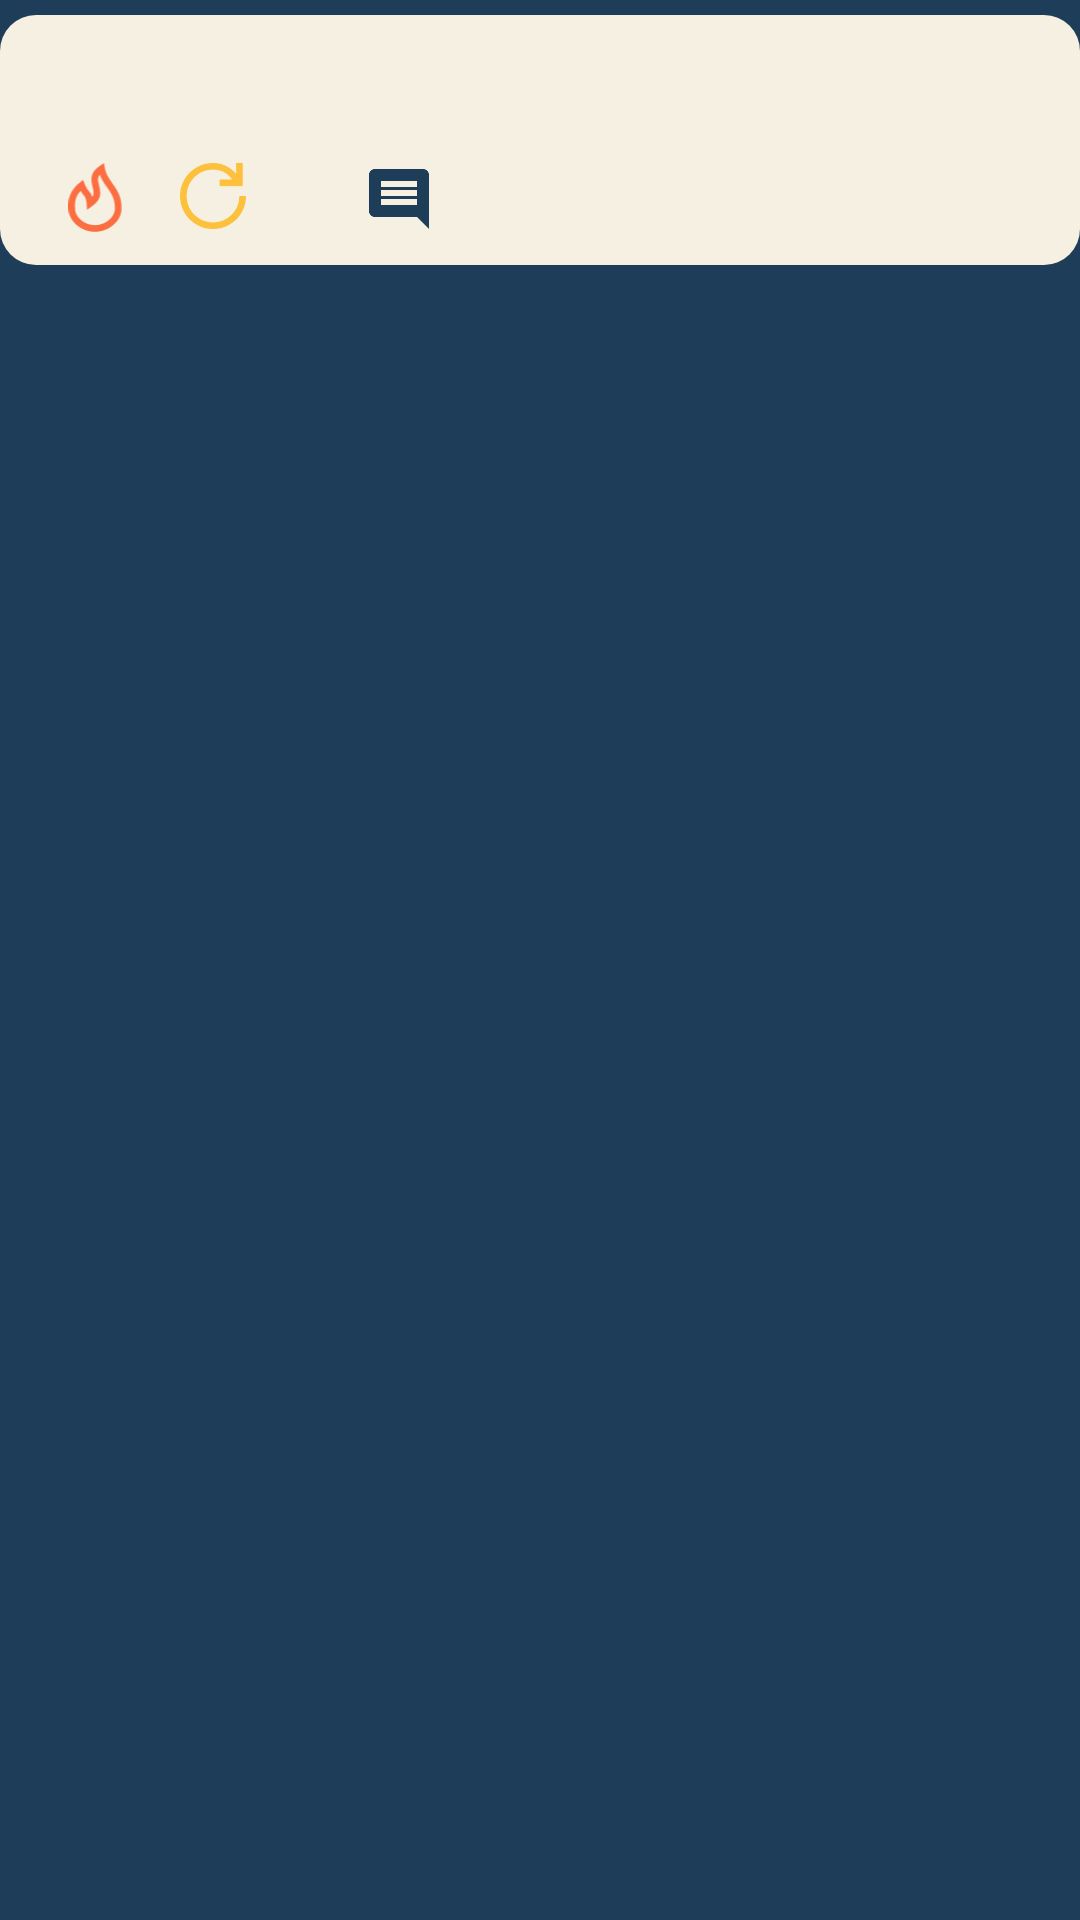

Where to tap for icons on this 1080px×1920px app screen, as (x,y):
comment post: (399,199)
flamme post: (95,197)
retweet post: (213,196)
